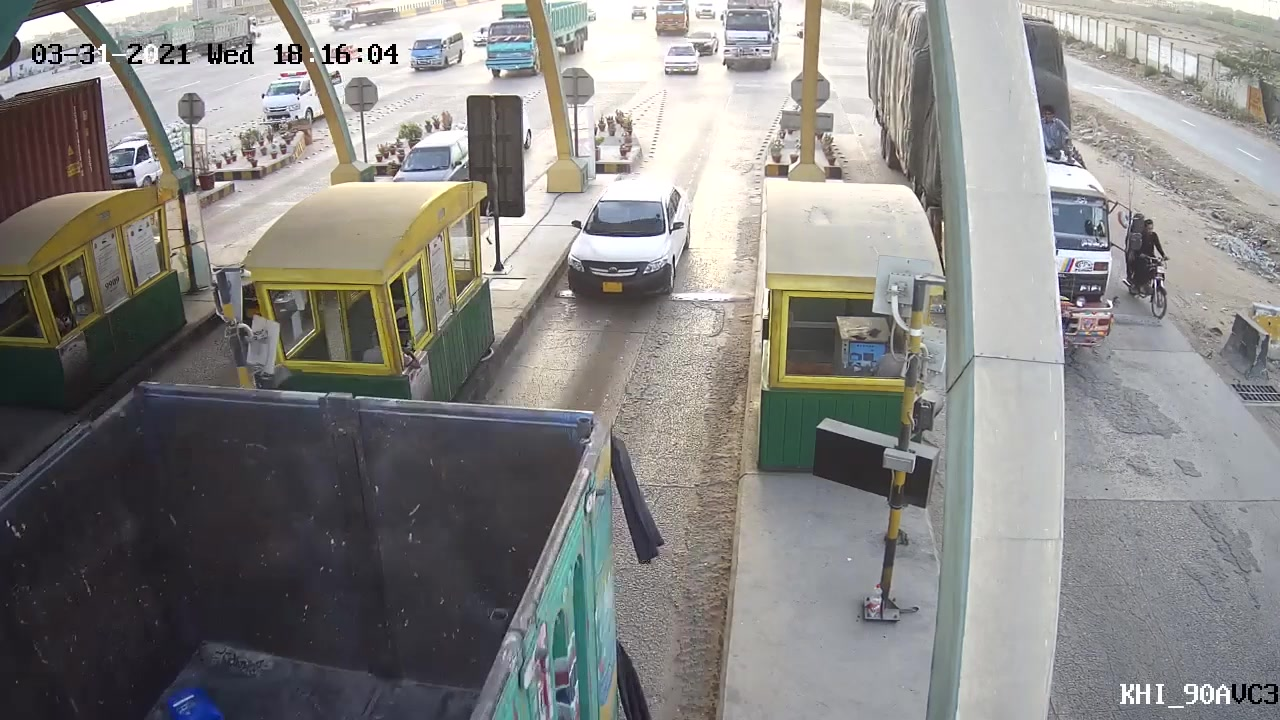F1: (517, 249, 693, 470)
